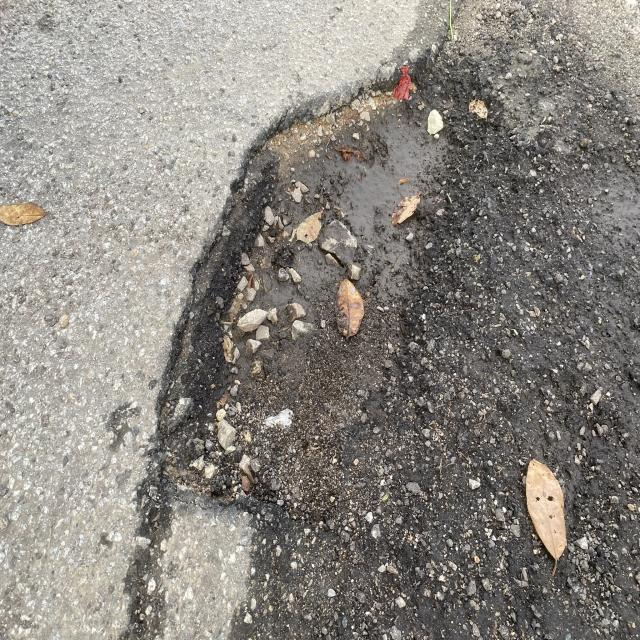Pothole: (144, 58, 513, 590)
